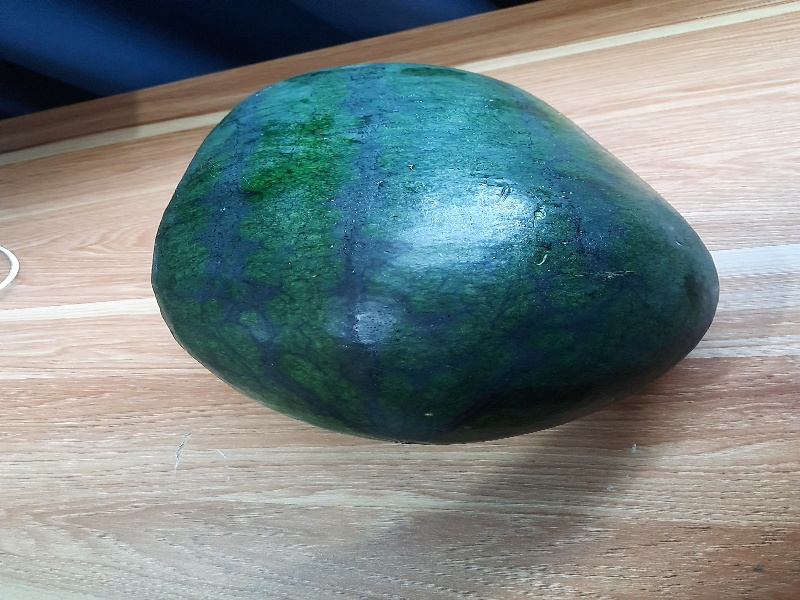fruit: (140, 55, 730, 446)
